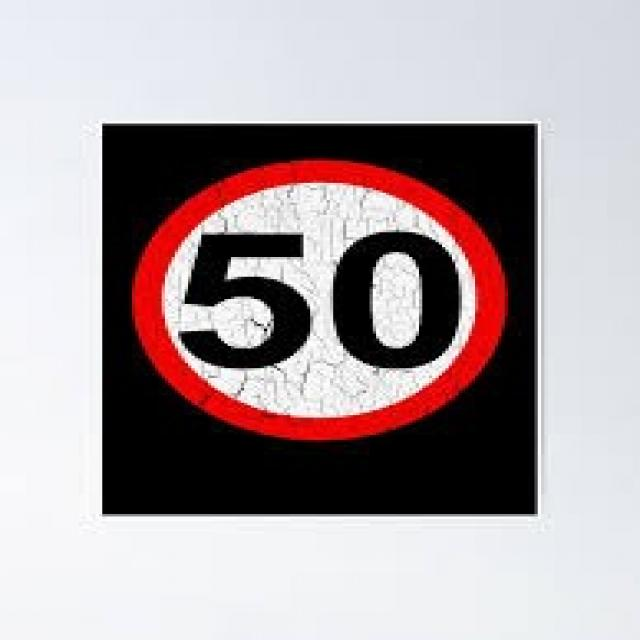speed_limit_50: (127, 151, 511, 446)
